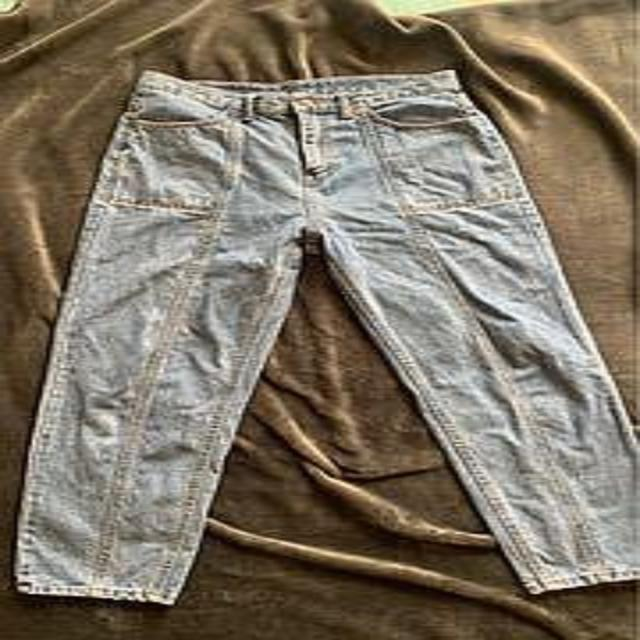TROUSER: (7, 64, 623, 608)
